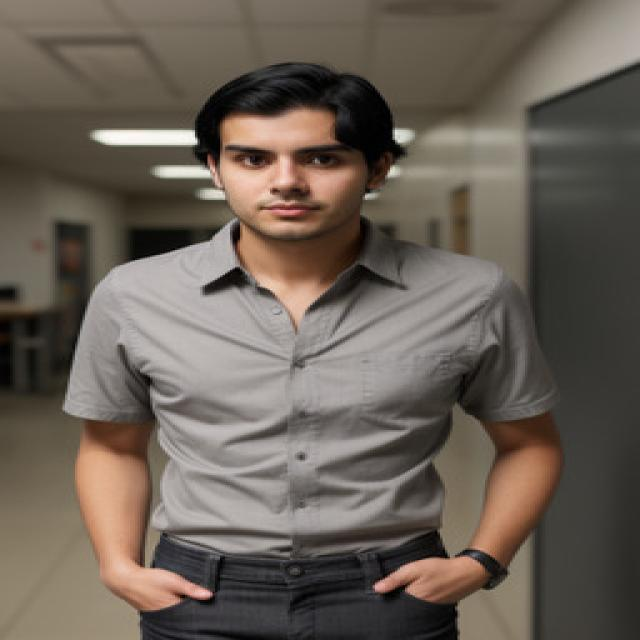Ai human 2: (49, 44, 584, 640)
